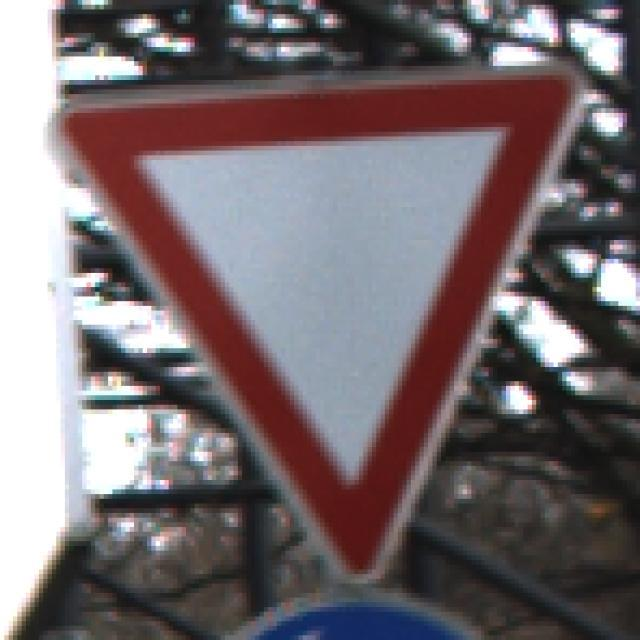give way: (40, 59, 585, 593)
